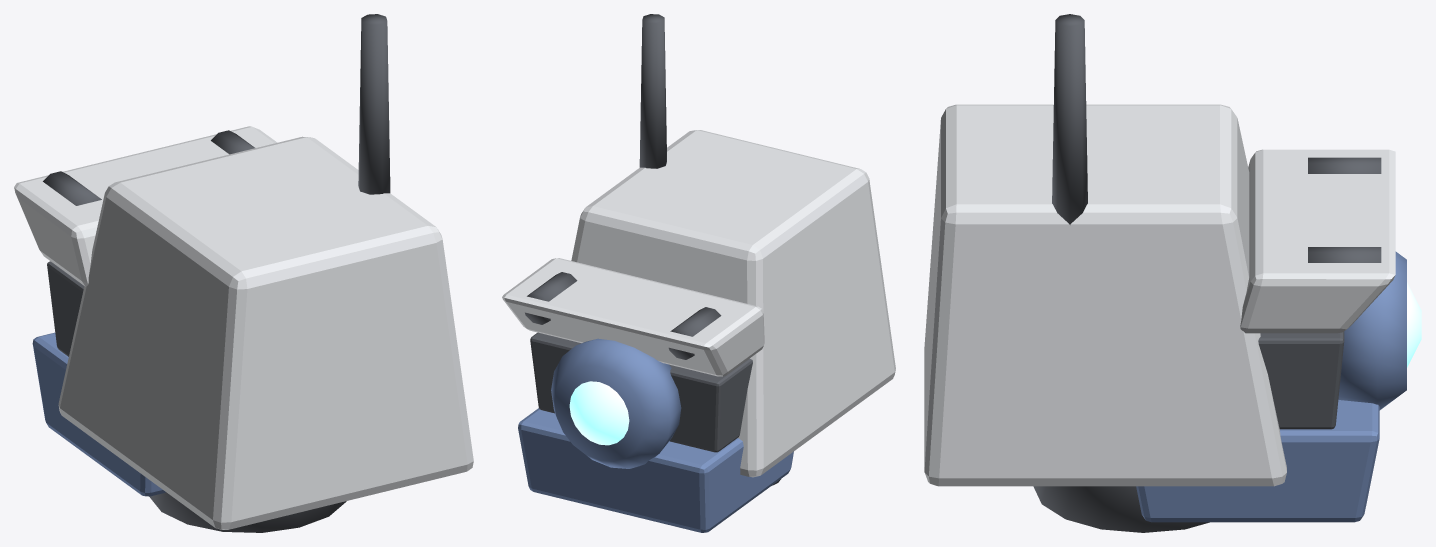
Rendered from head_mono.glb.
The picture shows the model from 3 angles, left to right: view 1: azimuth 30°, elevation 25°; view 2: azimuth 150°, elevation 25°; view 3: azimuth 270°, elevation 25°; orthographic projection. The views are drawn at different scales.
Parts seen in each view (by area): view 1: skull, brow, antenna, jaw, neck, face_slot, vulcan, vulcan.001; view 2: skull, brow, jaw, mono_ring, face_slot, antenna, mono_eye, vulcan, vulcan.001; view 3: skull, brow, jaw, face_slot, mono_ring, antenna, neck, vulcan, vulcan.001, mono_eye.
Boxes of the visible parts, x1=… form: skull: x1=58, y1=136, x2=473, y2=529; brow: x1=14, y1=126, x2=277, y2=286; antenna: x1=358, y1=14, x2=390, y2=194; jaw: x1=32, y1=332, x2=165, y2=496; neck: x1=149, y1=492, x2=346, y2=532; face_slot: x1=47, y1=261, x2=84, y2=356; vulcan: x1=43, y1=171, x2=101, y2=205; vulcan.001: x1=211, y1=130, x2=254, y2=154; skull: x1=571, y1=130, x2=895, y2=477; brow: x1=502, y1=258, x2=764, y2=376; jaw: x1=518, y1=408, x2=793, y2=532; mono_ring: x1=551, y1=338, x2=681, y2=468; face_slot: x1=530, y1=332, x2=752, y2=452; antenna: x1=639, y1=14, x2=666, y2=168; mono_eye: x1=569, y1=381, x2=629, y2=445; vulcan: x1=668, y1=307, x2=721, y2=359; vulcan.001: x1=525, y1=272, x2=577, y2=324; skull: x1=924, y1=104, x2=1286, y2=486; brow: x1=1240, y1=149, x2=1395, y2=333; jaw: x1=1136, y1=400, x2=1379, y2=522; face_slot: x1=1258, y1=331, x2=1344, y2=429; mono_ring: x1=1338, y1=251, x2=1406, y2=410; antenna: x1=1052, y1=14, x2=1087, y2=224; neck: x1=1033, y1=486, x2=1209, y2=532; vulcan: x1=1308, y1=157, x2=1381, y2=173; vulcan.001: x1=1308, y1=247, x2=1381, y2=262; mono_eye: x1=1407, y1=282, x2=1421, y2=367.
Bounding box in the file's own units: 1.51 × 2.64 × 2.31.
